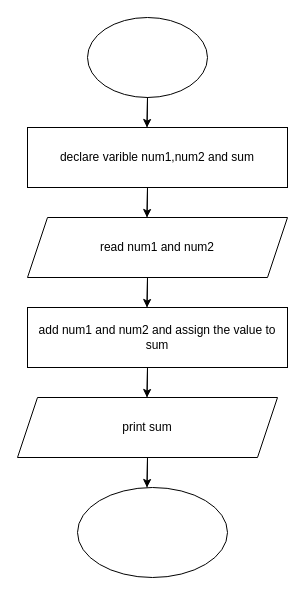
Image size: 305x595. Some labels were removed from this diagram. Here are the shapes that lost their labels. From the top down, the box of each, then its label:
(86, 16, 208, 98): start
(76, 486, 228, 578): stop
